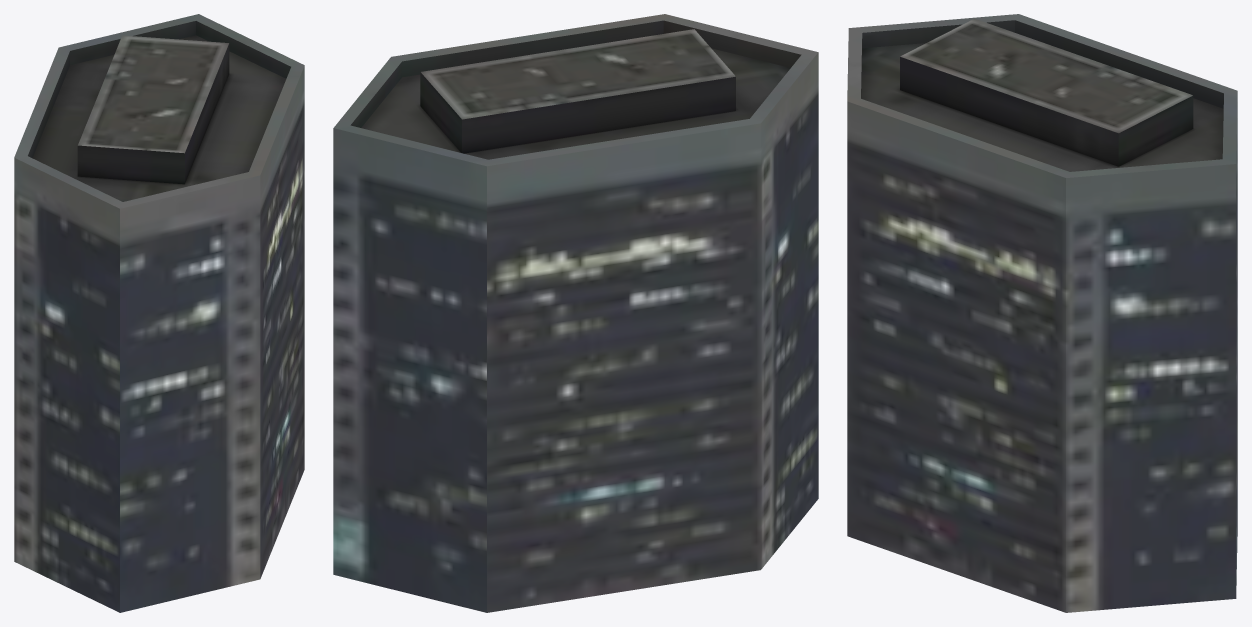
Rendered from building-night-08.glb.
The picture shows the model from 3 angles, left to right: view 1: azimuth 30°, elevation 25°; view 2: azimuth 150°, elevation 25°; view 3: azimuth 270°, elevation 25°; orthographic projection. The views are drawn at different scales.
Visible parts, largest first — view 1: Cube.001_Background_Night_Buildings_0.008; view 2: Cube.001_Background_Night_Buildings_0.008; view 3: Cube.001_Background_Night_Buildings_0.008.
Part boxes in pixels (x1=…): Cube.001_Background_Night_Buildings_0.008: x1=14, y1=14, x2=304, y2=612; Cube.001_Background_Night_Buildings_0.008: x1=333, y1=14, x2=818, y2=612; Cube.001_Background_Night_Buildings_0.008: x1=847, y1=14, x2=1237, y2=612.
Bounding box in the file's own units: 20.86 × 26.83 × 20.96.
Materials: 1 (1 with a texture image).
